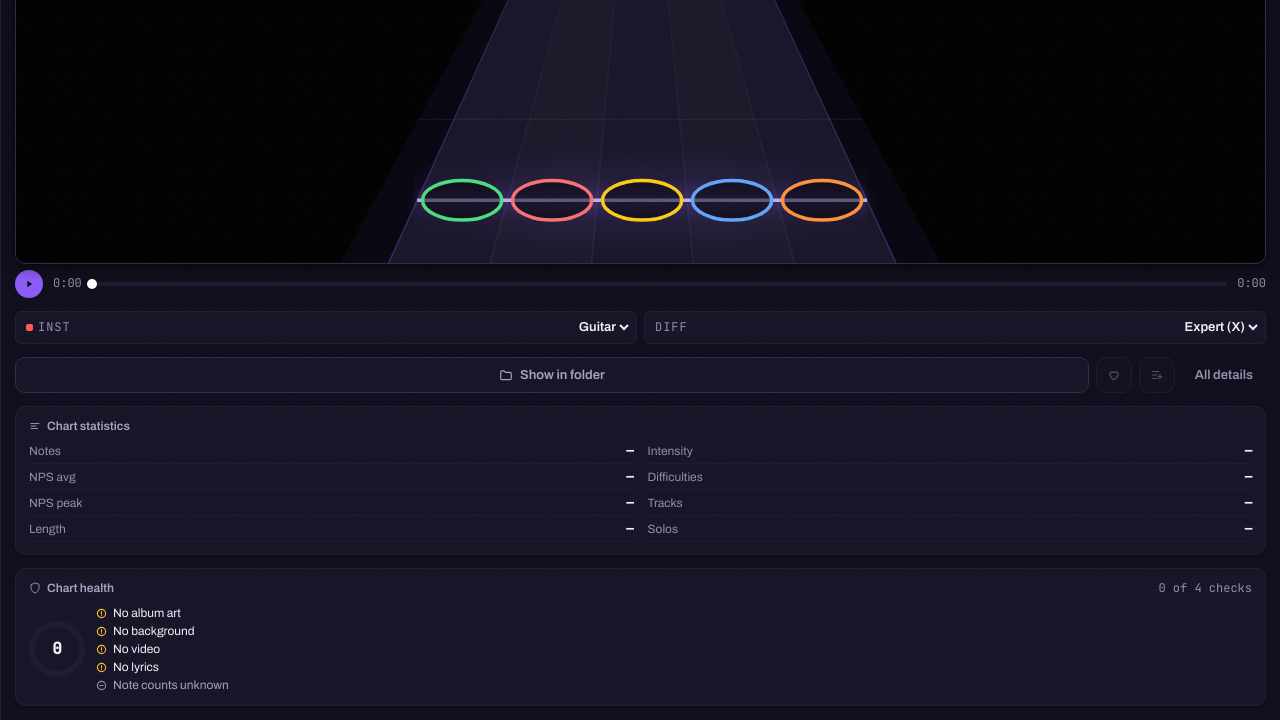
Scenario: Rail: the heart › refuses a chart that sets no name of its own, and says why where it was pressed
The width and height of the screenshot is (1280, 720).
(page scrolled)
Step 1. Click the button named "Favourite" → [1114, 375], box [1096,357,1132,393]
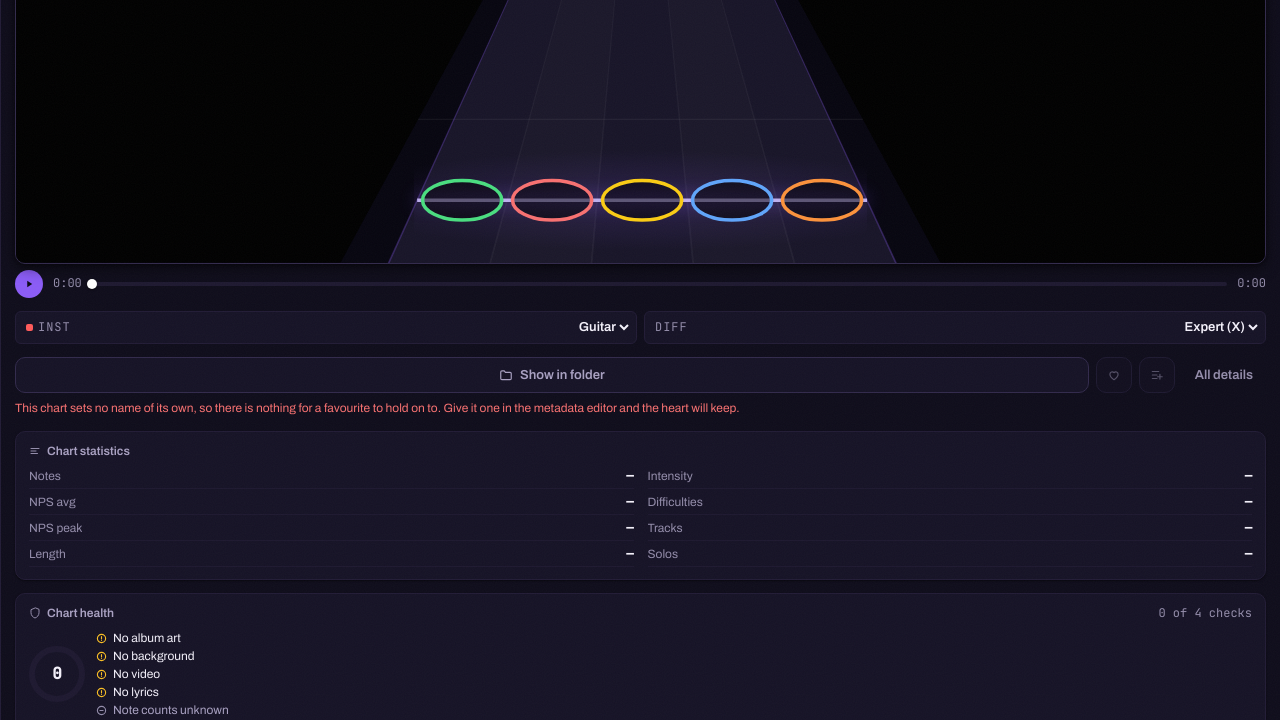
Expected: the message shows "no name of its own", [15,401,740,415]
